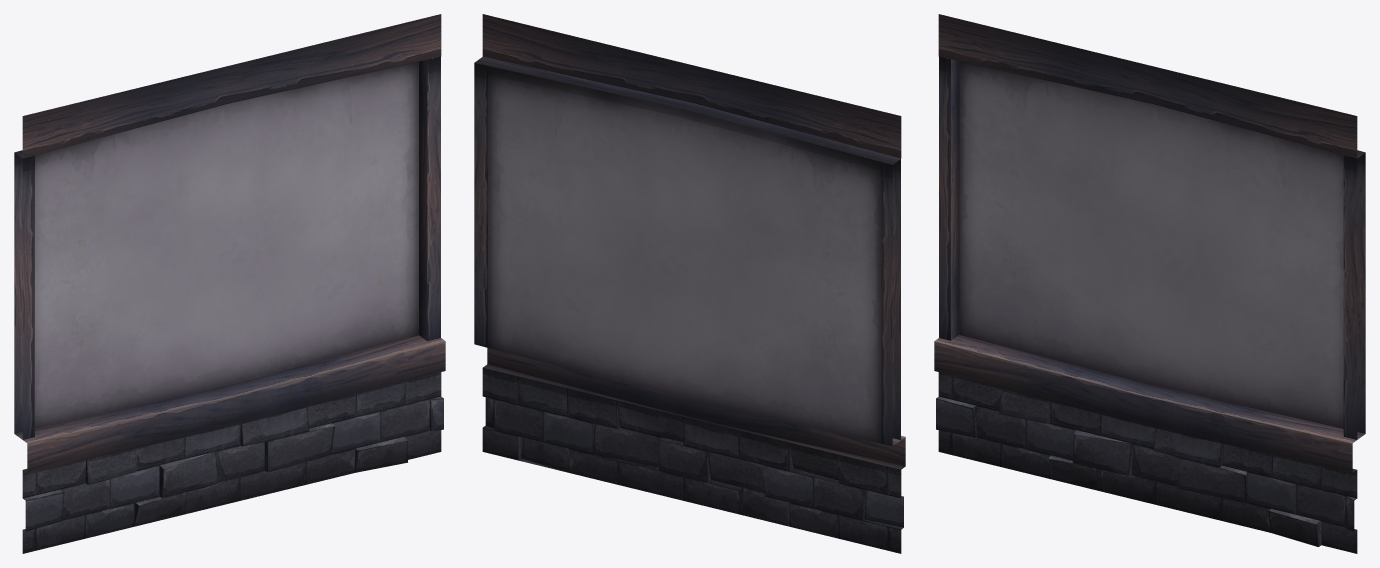
The model's file is Wall_1sided_detailed.fbx.
3 renders of one model, left to right at view 1: azimuth 30°, elevation 25°; view 2: azimuth 150°, elevation 25°; view 3: azimuth 330°, elevation 25°, orthographic.
Parts seen in each view (by area): view 1: Wall_1sided_detailed; view 2: Wall_1sided_detailed; view 3: Wall_1sided_detailed.
Boxes of the visible parts, box(x1,y1,x2,y2) form: Wall_1sided_detailed: box(14, 14, 445, 553); Wall_1sided_detailed: box(474, 14, 905, 553); Wall_1sided_detailed: box(934, 14, 1365, 553).
Bounding box in the file's own units: 0.6266 × 0.6266 × 0.0339.
